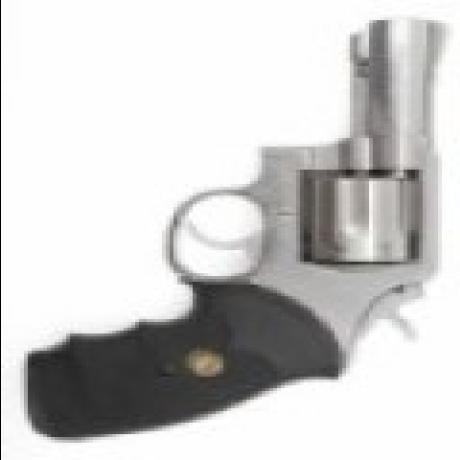weapon: (19, 22, 455, 438)
